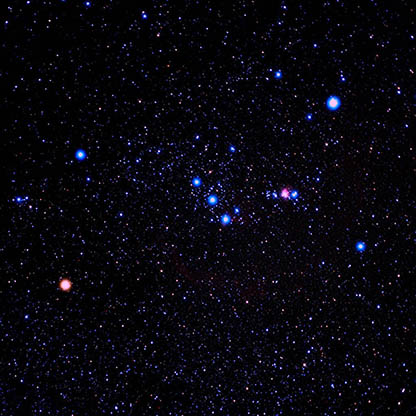Orion: (315, 87, 353, 124), (44, 268, 82, 304), (68, 141, 98, 171), (341, 231, 369, 260), (213, 208, 239, 231), (182, 166, 206, 187), (199, 191, 222, 211)
